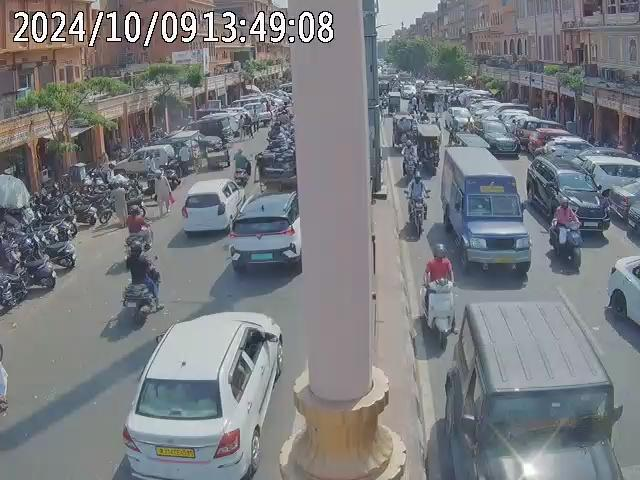auto: (402, 122, 443, 176)
car: (441, 293, 630, 480), (118, 307, 283, 479), (525, 154, 610, 235), (226, 189, 302, 277), (581, 144, 639, 210), (181, 175, 242, 231), (470, 99, 504, 129), (485, 133, 521, 159), (442, 105, 470, 130)
helmet: (430, 247, 447, 257)
license_plate: (156, 446, 196, 459)
lorry: (437, 148, 530, 281)
scooty-rider: (120, 226, 161, 325), (426, 244, 457, 343), (545, 201, 583, 271), (231, 147, 251, 186)
